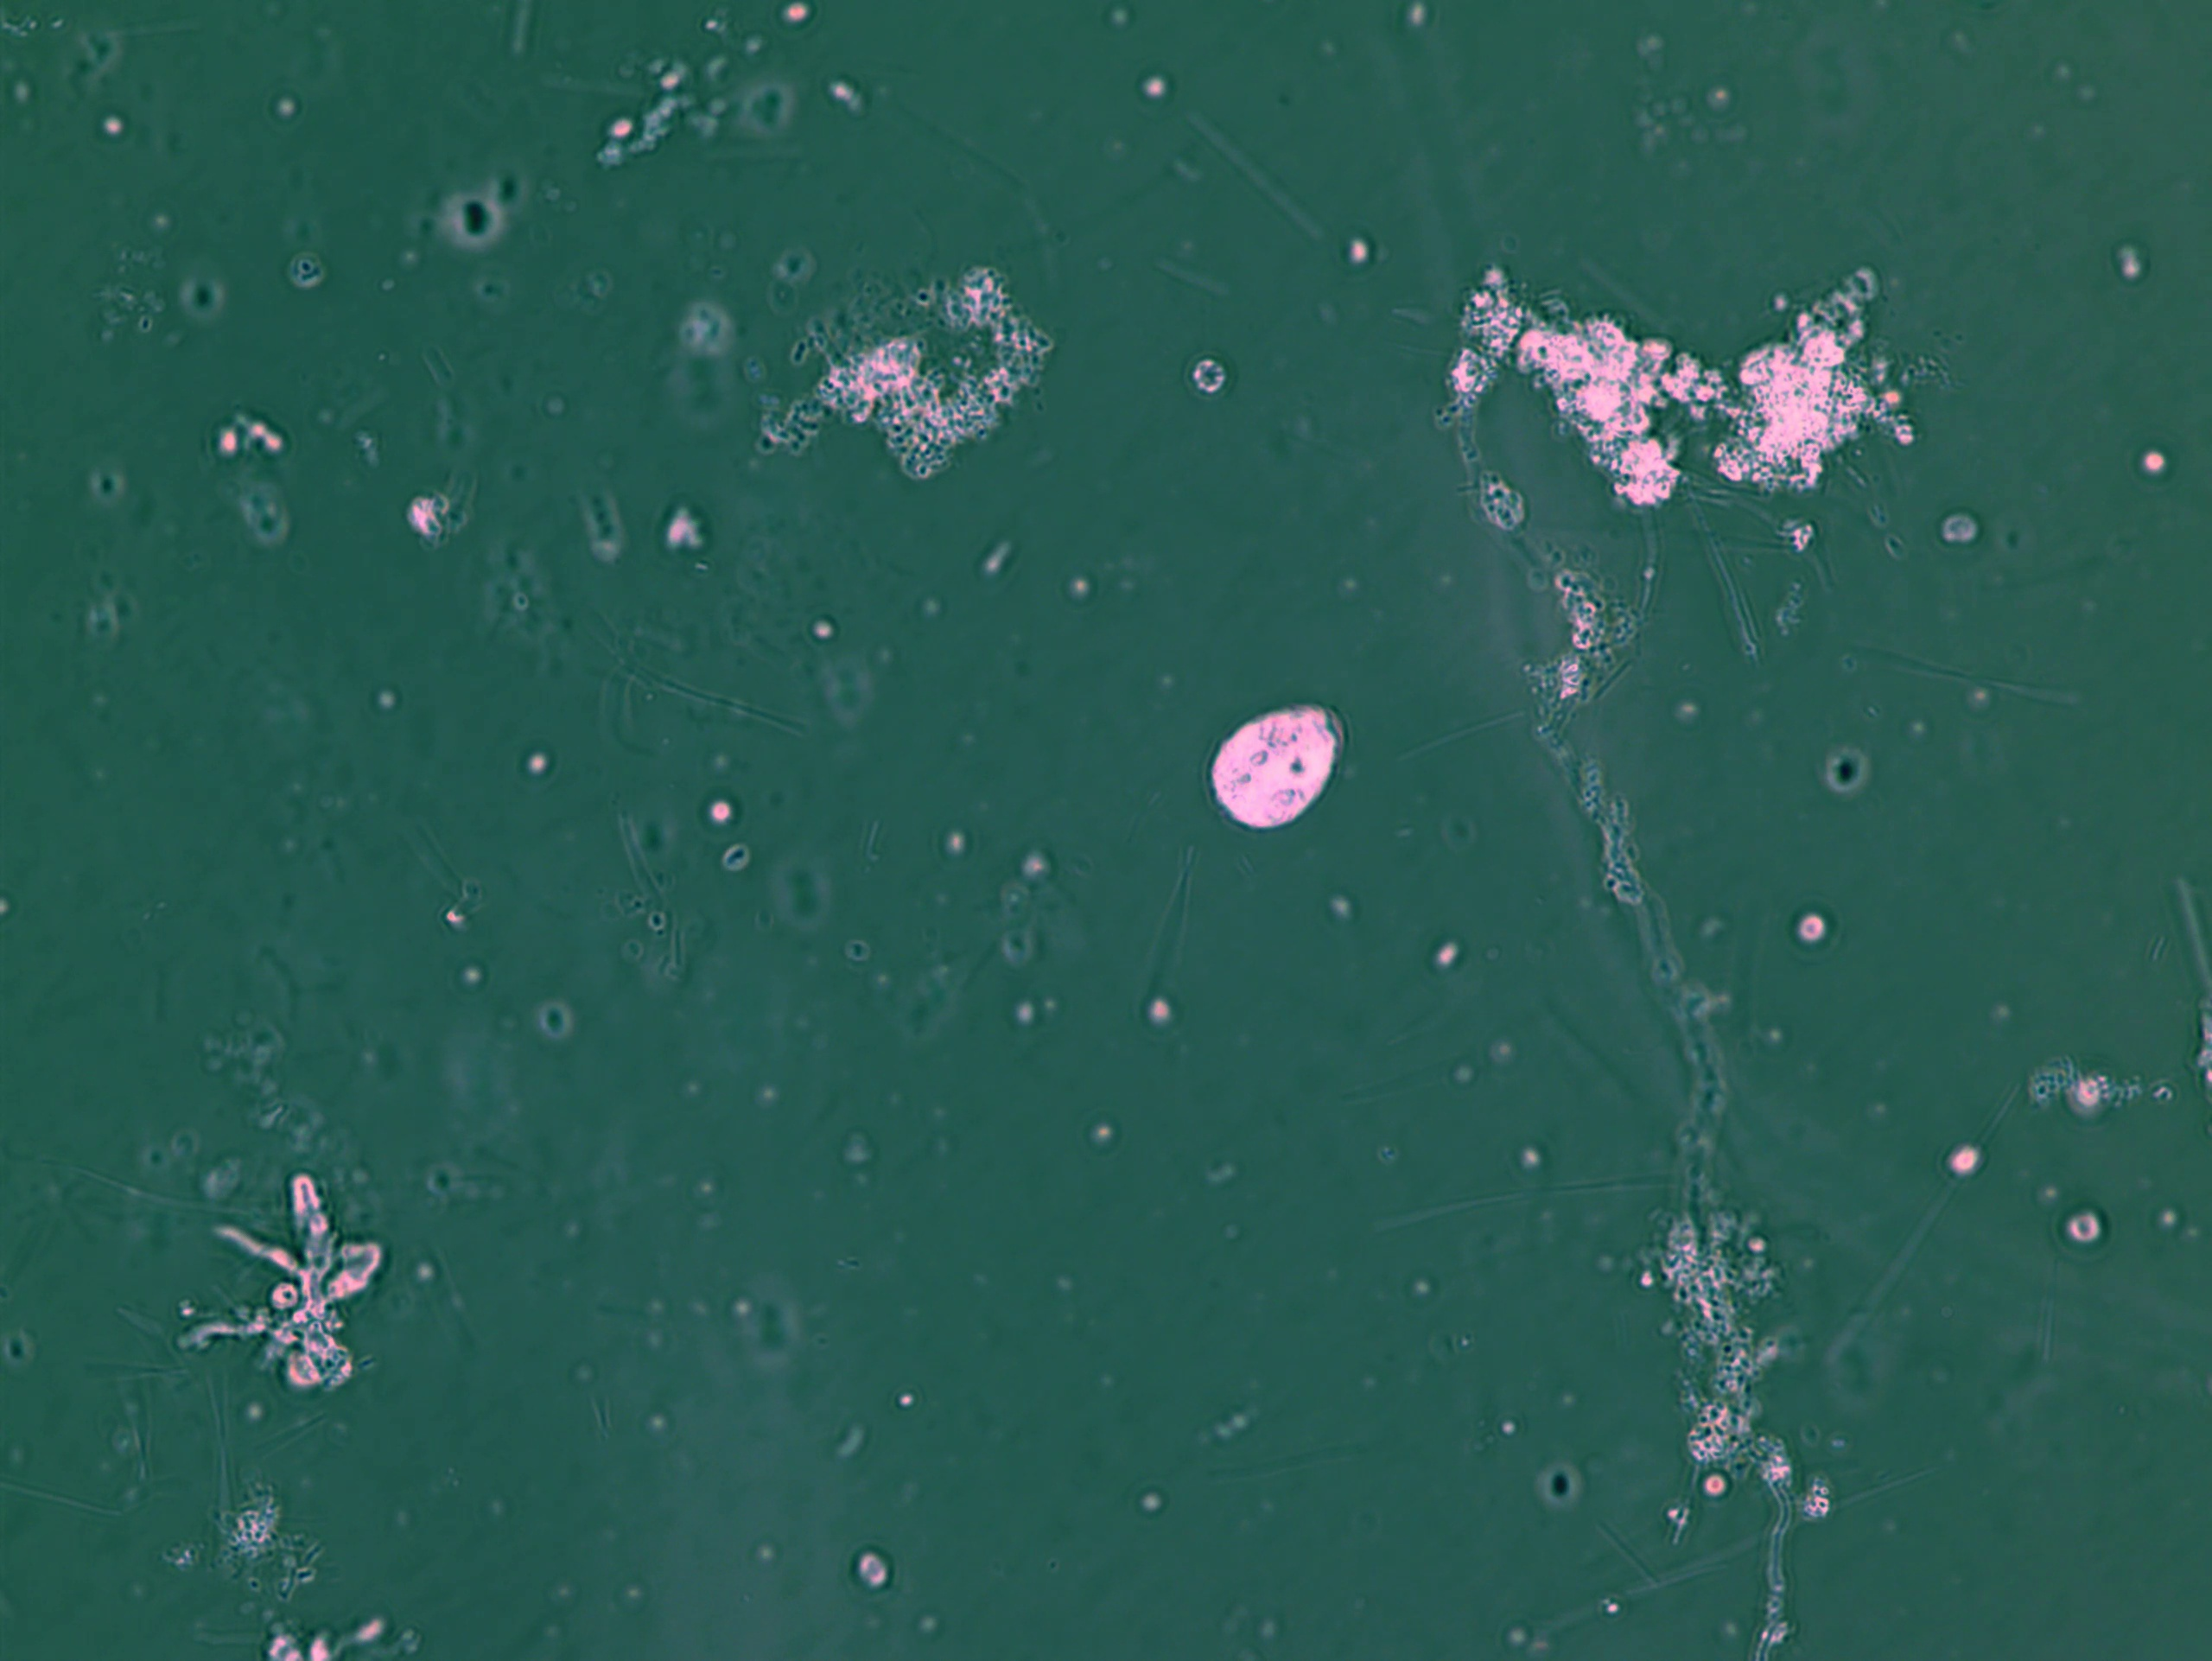depth:20: (1188, 658, 1385, 850)
